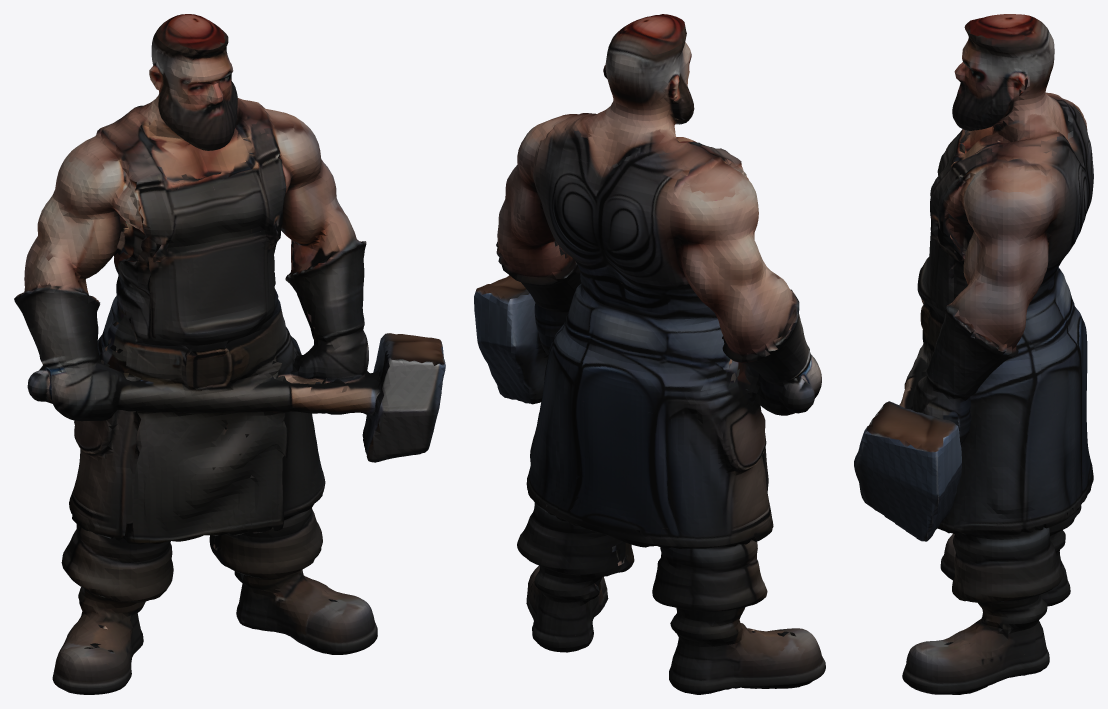
Rendered from body.glb.
The picture shows the model from 3 angles, left to right: view 1: azimuth 30°, elevation 25°; view 2: azimuth 150°, elevation 25°; view 3: azimuth 270°, elevation 25°; orthographic projection. The views are drawn at different scales.
Parts seen in each view (by area): view 1: geometry_0; view 2: geometry_0; view 3: geometry_0.
Part boxes in pixels (box(x1,y1,x2,y2)): geometry_0: box(14, 14, 445, 694); geometry_0: box(474, 14, 825, 694); geometry_0: box(854, 14, 1093, 694).
Size of the model in its own units: 1.22 by 1.96 by 0.6933.
1 material, 1 textured.
